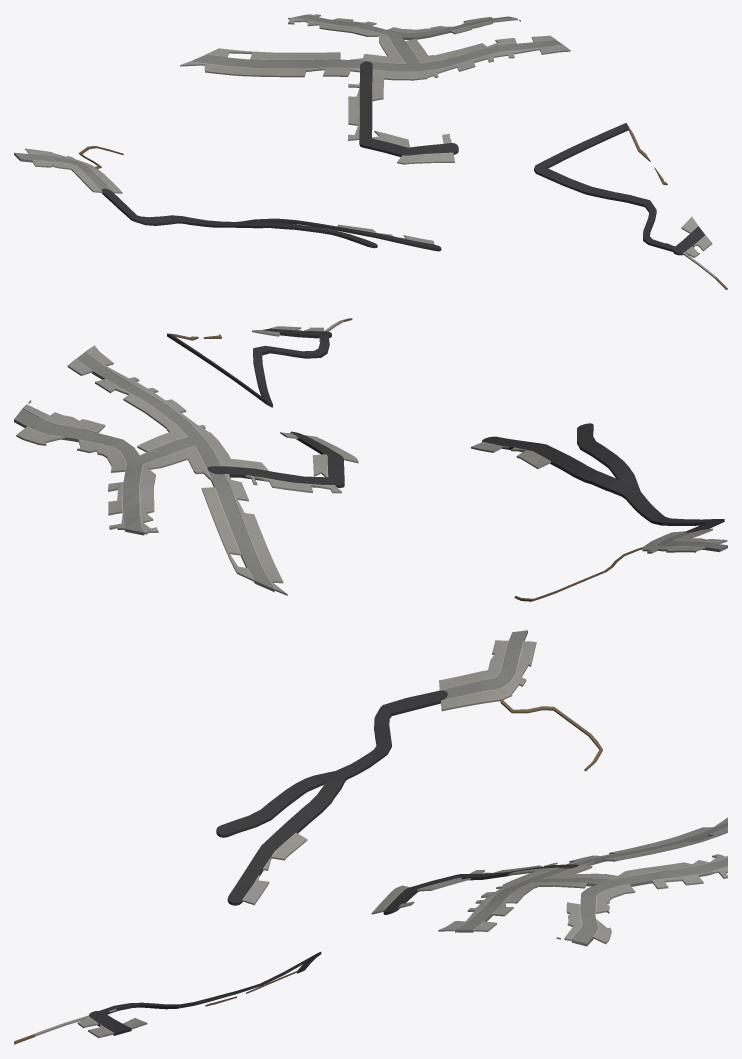
The picture shows the model from 3 angles, top to bottom: view 1: azimuth 30°, elevation 25°; view 2: azimuth 150°, elevation 25°; view 3: azimuth 270°, elevation 25°; orthographic projection. The views are drawn at different scales.
Bounding box in the file's own units: 293 × 57.06 × 292.
